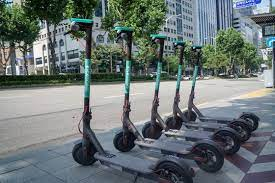kick_body: (204, 116, 236, 121)
kick_handler: (64, 18, 93, 35), (113, 27, 135, 40), (149, 34, 166, 46), (174, 40, 186, 50), (191, 44, 202, 53)
kick_neck: (83, 35, 92, 124), (125, 43, 133, 117), (153, 52, 162, 106)
kick_wheel: (157, 157, 192, 183), (194, 141, 223, 172), (73, 141, 97, 165), (215, 128, 239, 152), (114, 132, 135, 151), (232, 120, 250, 141), (142, 121, 161, 140), (241, 113, 259, 131), (167, 116, 181, 128), (184, 110, 196, 121)
